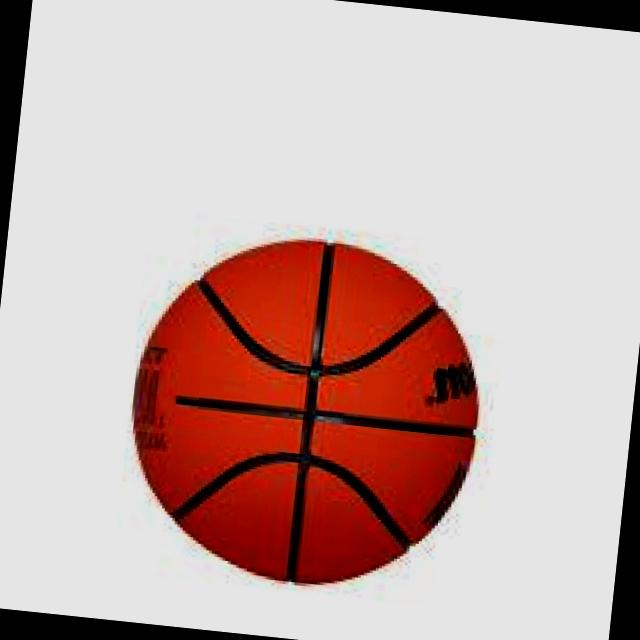ball: (112, 220, 501, 604)
